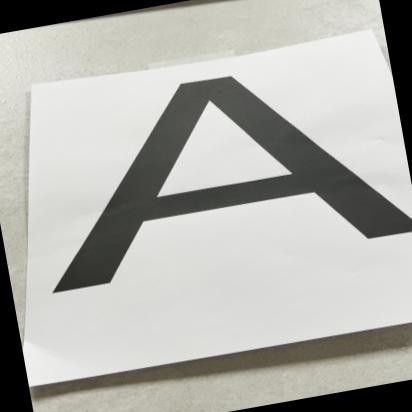seat: (35, 38, 412, 373)
